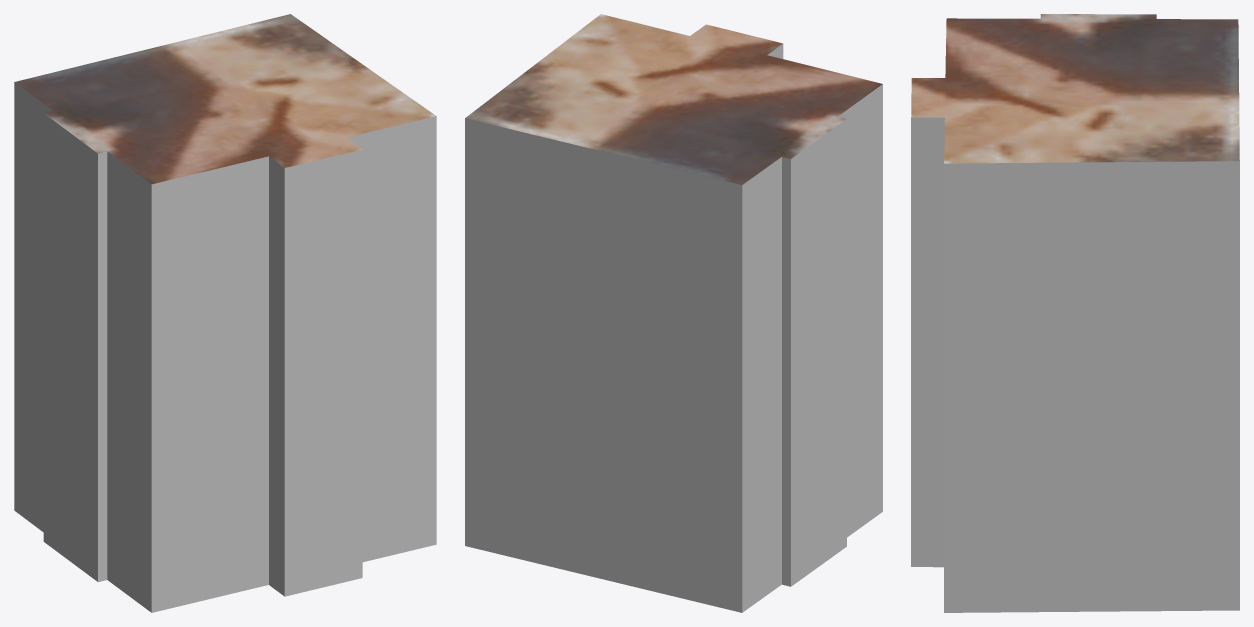
File: DEBW_0010007Txgz.gltf
The picture shows the model from 3 angles, left to right: view 1: azimuth 30°, elevation 25°; view 2: azimuth 150°, elevation 25°; view 3: azimuth 270°, elevation 25°; orthographic projection. The views are drawn at different scales.
Parts seen in each view (by area): view 1: Z_UP; view 2: Z_UP; view 3: Z_UP.
Boxes of the visible parts, <box> form: Z_UP: <box>14,14,436,612</box>; Z_UP: <box>465,14,882,612</box>; Z_UP: <box>911,14,1239,612</box>.
Size of the model in its own units: 12.71 by 17.8 by 11.8.
2 materials, 1 textured.
